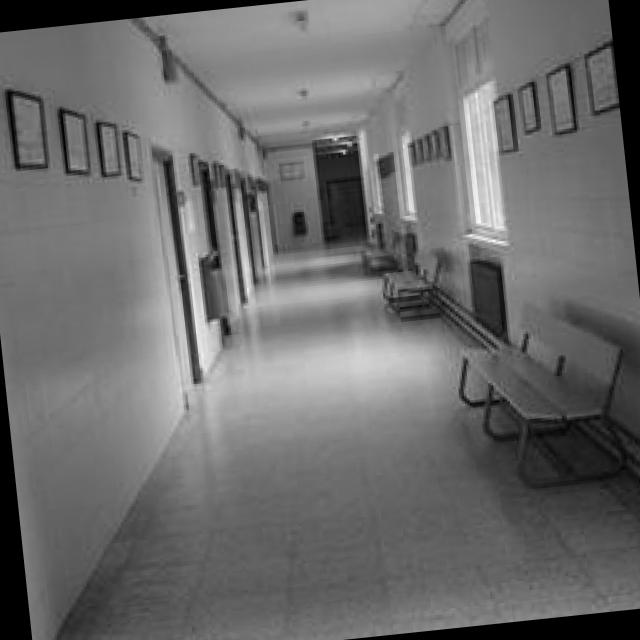2001: (443, 0, 509, 252), (385, 77, 415, 222), (358, 121, 381, 212)
air conditioner: (467, 257, 505, 338), (401, 231, 414, 265), (374, 221, 382, 243)
bench crop: (453, 299, 634, 488), (380, 244, 443, 317), (360, 234, 396, 269)
ceiling beam: (130, 0, 461, 148)
door bars: (148, 140, 200, 403), (198, 159, 230, 331), (326, 178, 367, 238), (226, 169, 244, 296), (240, 180, 251, 277)
drinking fountain: (288, 209, 306, 232)
floor -X: (54, 240, 640, 640)
picture crop: (6, 87, 45, 165), (579, 41, 614, 111), (543, 63, 576, 133), (59, 106, 88, 173), (95, 120, 119, 175), (491, 92, 513, 150), (517, 82, 538, 135), (124, 129, 139, 178), (276, 159, 303, 179), (184, 148, 195, 185), (231, 170, 240, 183)
pictures in frames: (404, 124, 449, 165), (371, 149, 392, 178), (213, 160, 223, 185), (255, 179, 266, 188)
trash compactor: (198, 250, 229, 319)
wall clock: (0, 18, 275, 640), (356, 0, 640, 476), (262, 140, 322, 244)
